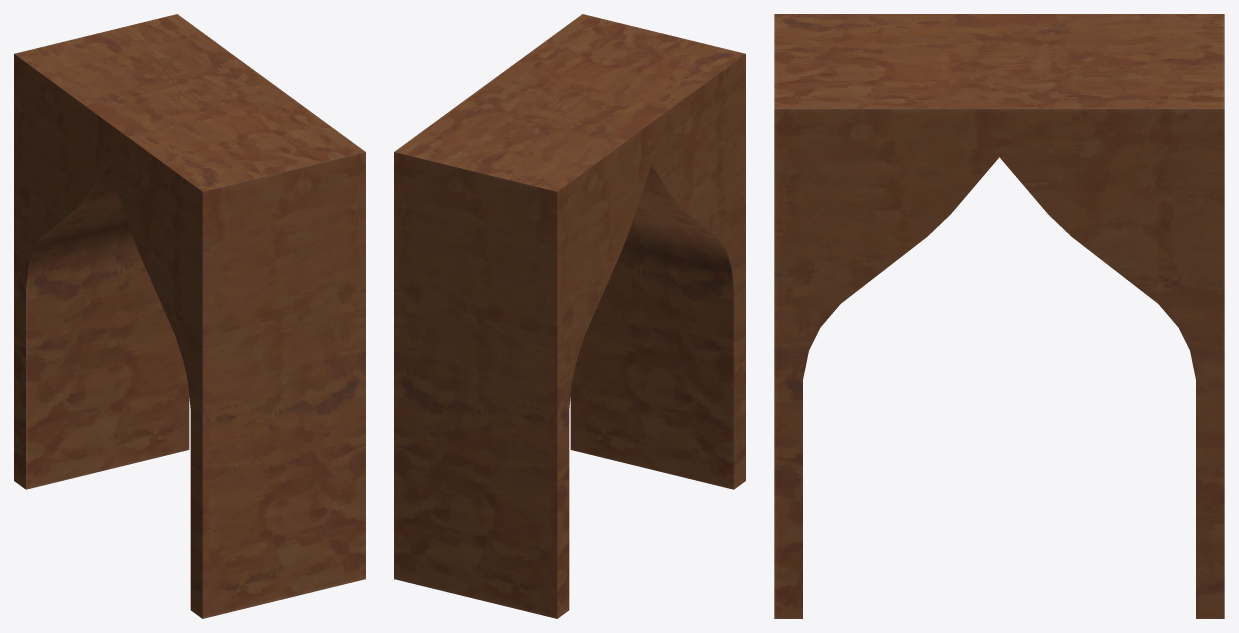
The model's file is DI_087_window.glb.
3 views of the same model, side by side, from view 1: azimuth 30°, elevation 25°; view 2: azimuth 150°, elevation 25°; view 3: azimuth 270°, elevation 25° (orthographic). The views are drawn at different scales.
Visible parts, largest first — view 1: window; view 2: window; view 3: window.
Part boxes in pixels (box(x1,y1,x2,y2)): window: box(14, 14, 365, 618); window: box(394, 14, 745, 618); window: box(774, 14, 1224, 618).
Bounding box in the file's own units: 0.75 × 1.88 × 1.5.
Materials: 1 (1 with a texture image).
